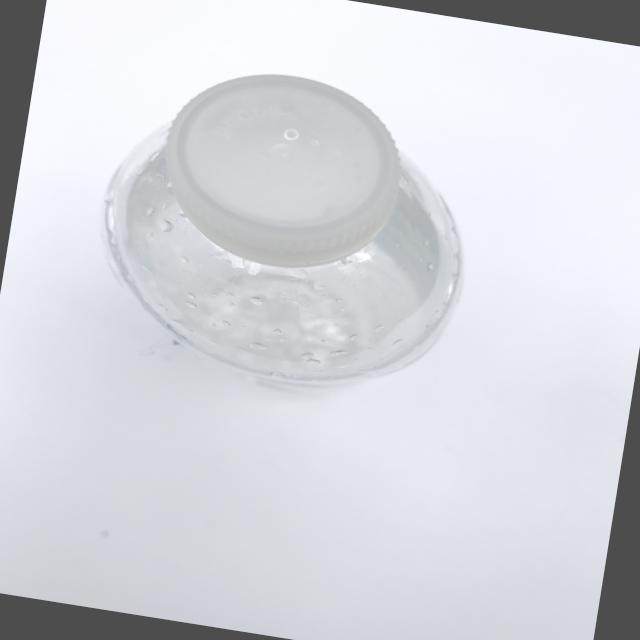Plastic: (60, 46, 525, 427)
